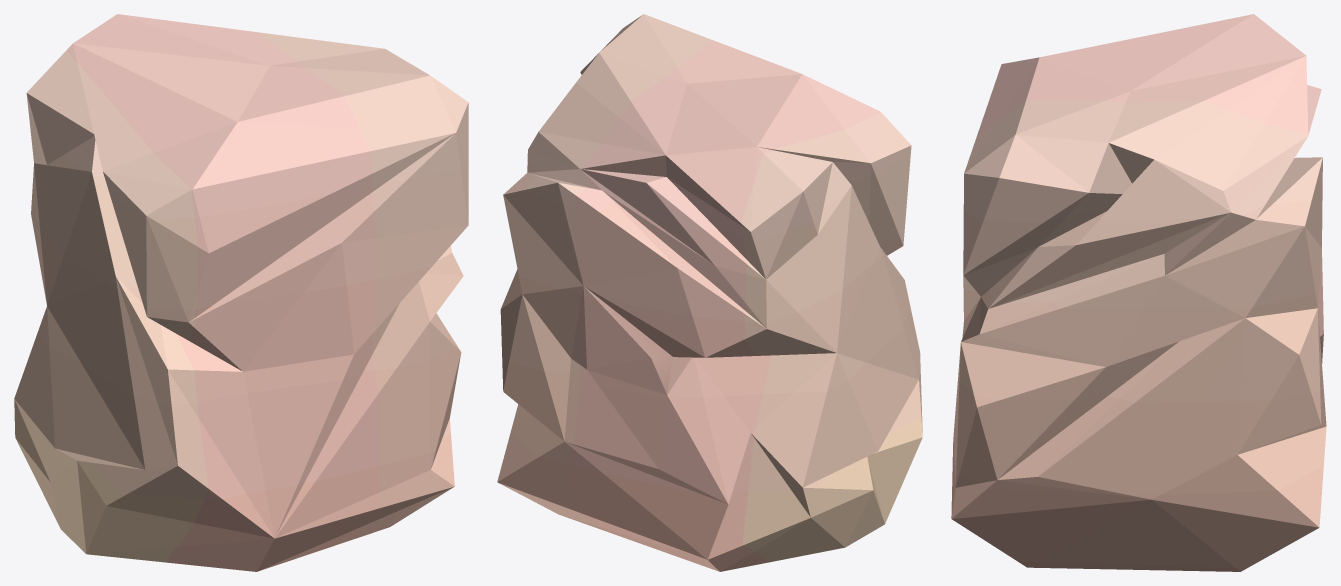
The model's file is DC_PillarRectangle3.fbx.
3 renders of one model, left to right at view 1: azimuth 30°, elevation 25°; view 2: azimuth 150°, elevation 25°; view 3: azimuth 270°, elevation 25°, orthographic. The views are drawn at different scales.
Visible parts, largest first — view 1: PillarRectangle3; view 2: PillarRectangle3; view 3: PillarRectangle3.
Part boxes in pixels (x1,y1,x2,y2): PillarRectangle3: (14,14,468,571); PillarRectangle3: (497,14,922,571); PillarRectangle3: (951,14,1326,571).
Bounding box in the file's own units: 1.31 × 1.65 × 1.23.
Materials: 1 (1 with a texture image).
